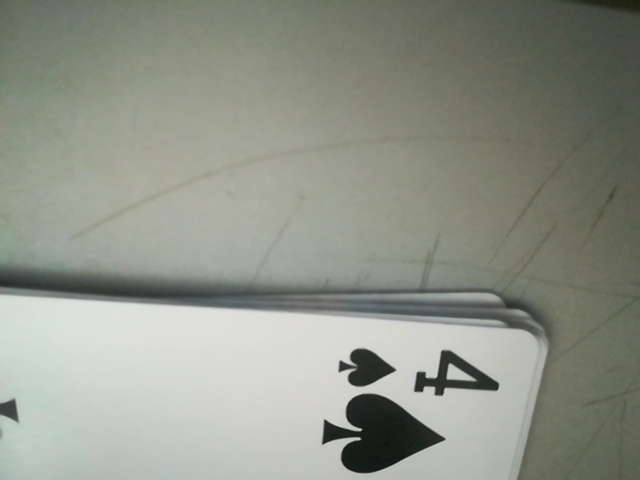ht 4: (331, 336, 509, 398)
